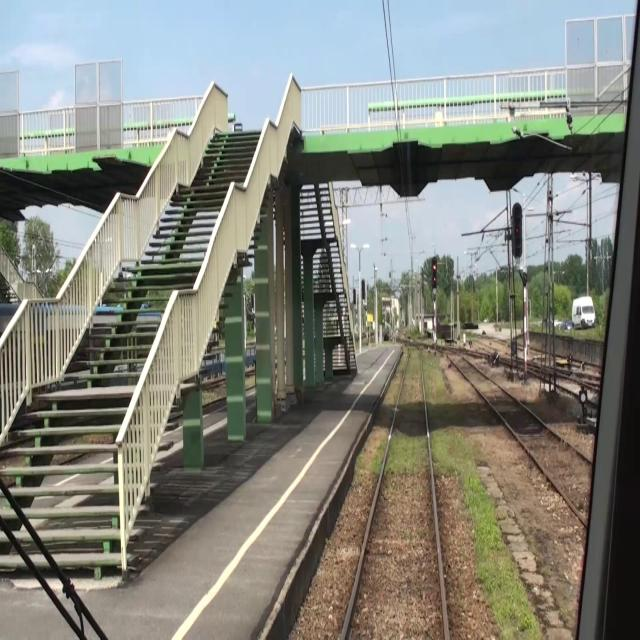rail-track: (345, 345, 444, 639)
